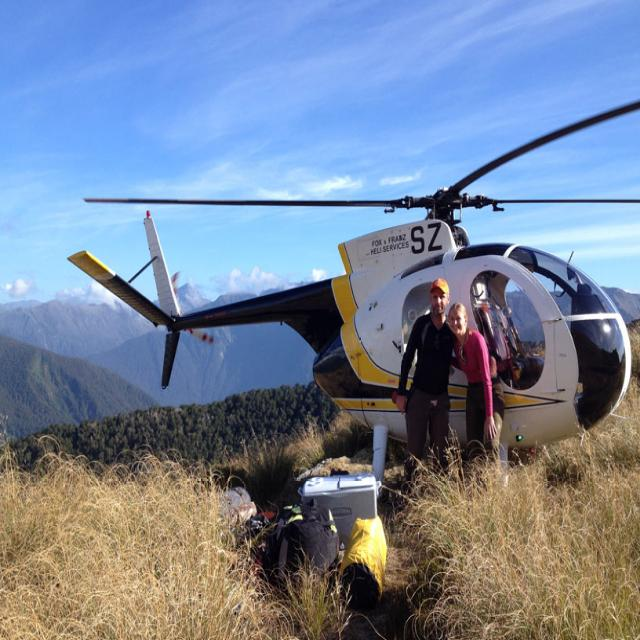helicopter: (52, 114, 640, 522)
